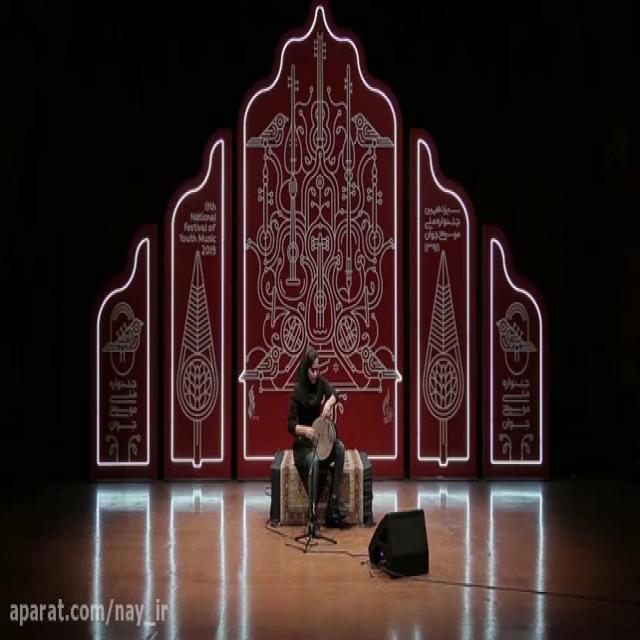Tombak: (309, 411, 337, 466)
